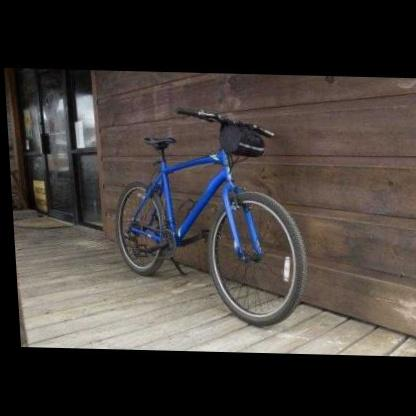Bicycle: (104, 90, 311, 332)
